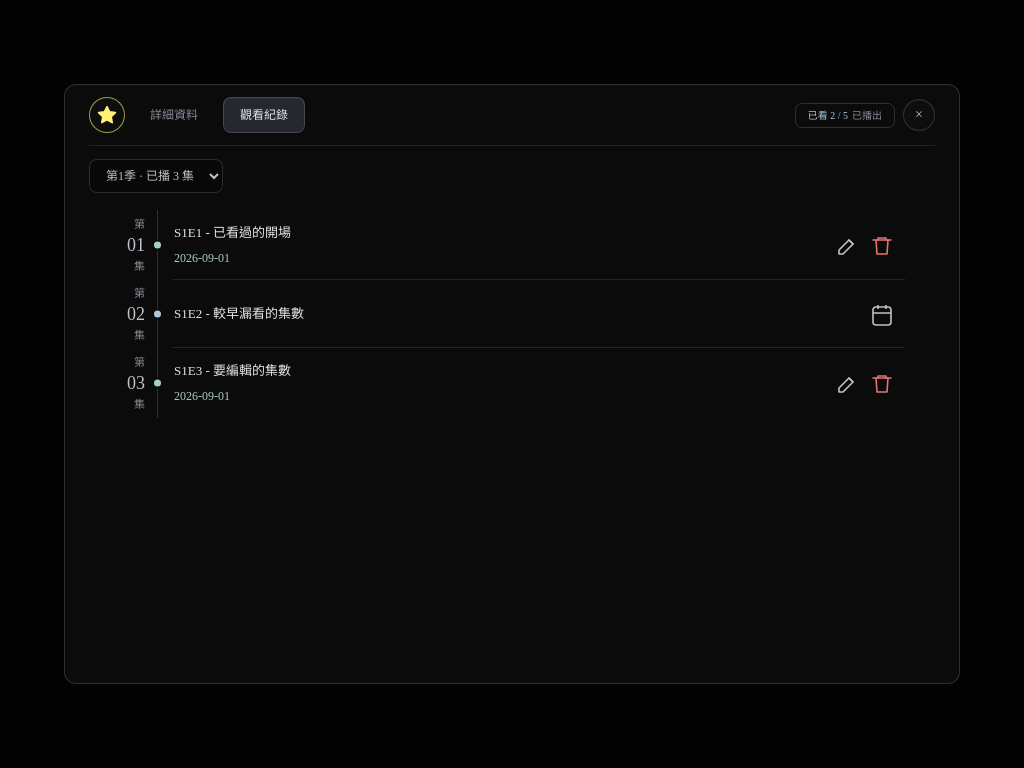
Test case: 手動換季後重新開啟紀錄分頁，不被漏看集數的自動定位拉回
Select "第2季 · 已播 2 集" in the dropdown named "選擇季數" at (156, 176), box top-left (89, 159), bottom-right (223, 193)
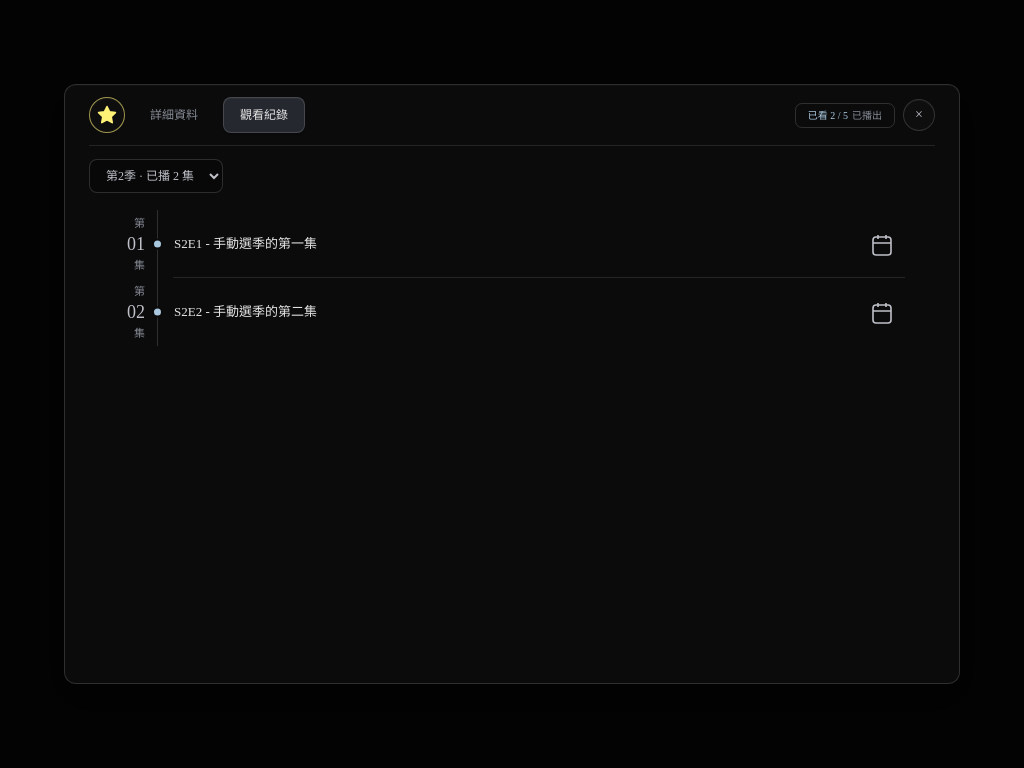
Check: the dropdown named "選擇季數" shows "第2季 · 已播 2 集", box top-left (89, 159), bottom-right (223, 193)
Check: the text "手動選季的第一集" is shown, box top-left (202, 236), bottom-right (317, 251)
Click the button "詳細資料" at (174, 115), box top-left (133, 97), bottom-right (215, 133)
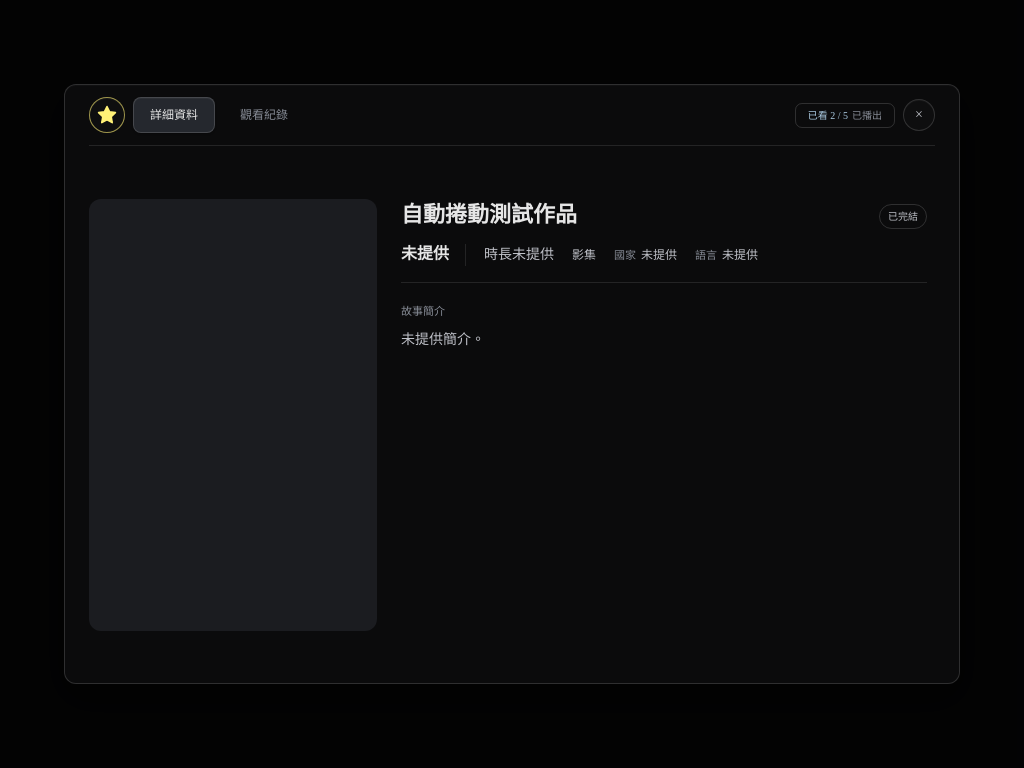
Click the button "觀看紀錄" at (264, 115), box top-left (223, 97), bottom-right (305, 133)
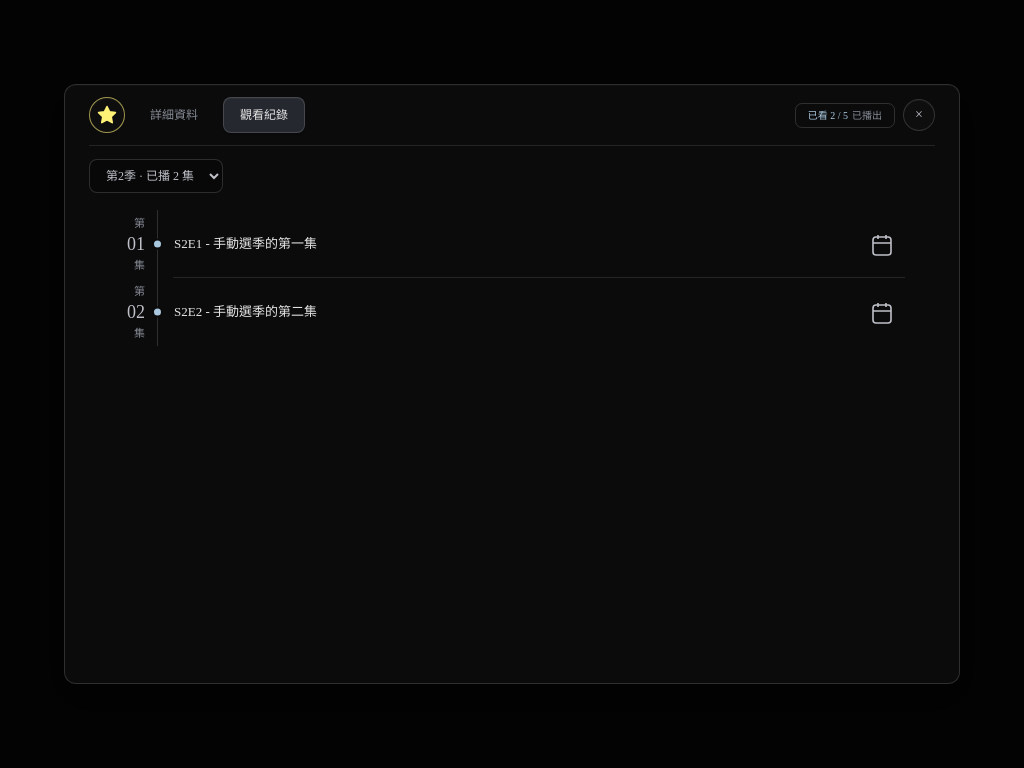
Check: the text "較早漏看的集數" is not shown
Check: the dropdown named "選擇季數" shows "第2季 · 已播 2 集", box top-left (89, 159), bottom-right (223, 193)
Check: the text "手動選季的第一集" is shown, box top-left (202, 236), bottom-right (317, 251)
